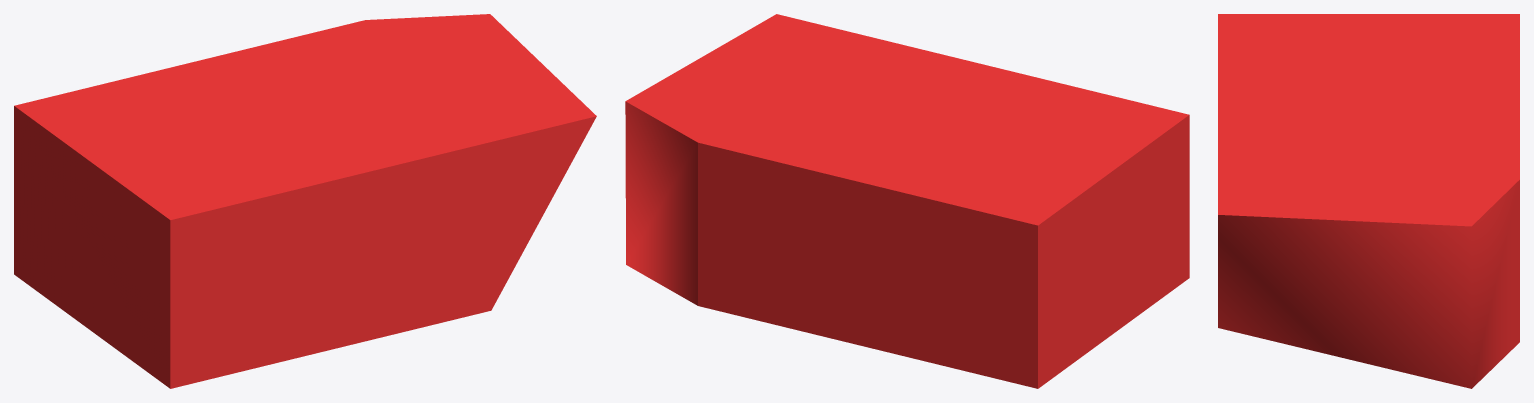
Rendered from DBK_Brick_Prop_Alone_B.fbx.
3 renders of one model, left to right at view 1: azimuth 30°, elevation 25°; view 2: azimuth 150°, elevation 25°; view 3: azimuth 270°, elevation 25°, orthographic. The views are drawn at different scales.
Visible parts, largest first — view 1: DBK_Brick_Prop_Alone_B; view 2: DBK_Brick_Prop_Alone_B; view 3: DBK_Brick_Prop_Alone_B.
Part boxes in pixels (<box>): DBK_Brick_Prop_Alone_B: <box>14,14,596,388</box>; DBK_Brick_Prop_Alone_B: <box>625,14,1189,388</box>; DBK_Brick_Prop_Alone_B: <box>1218,14,1519,388</box>.
Size of the model in its own units: 16.65 by 5.95 by 10.
